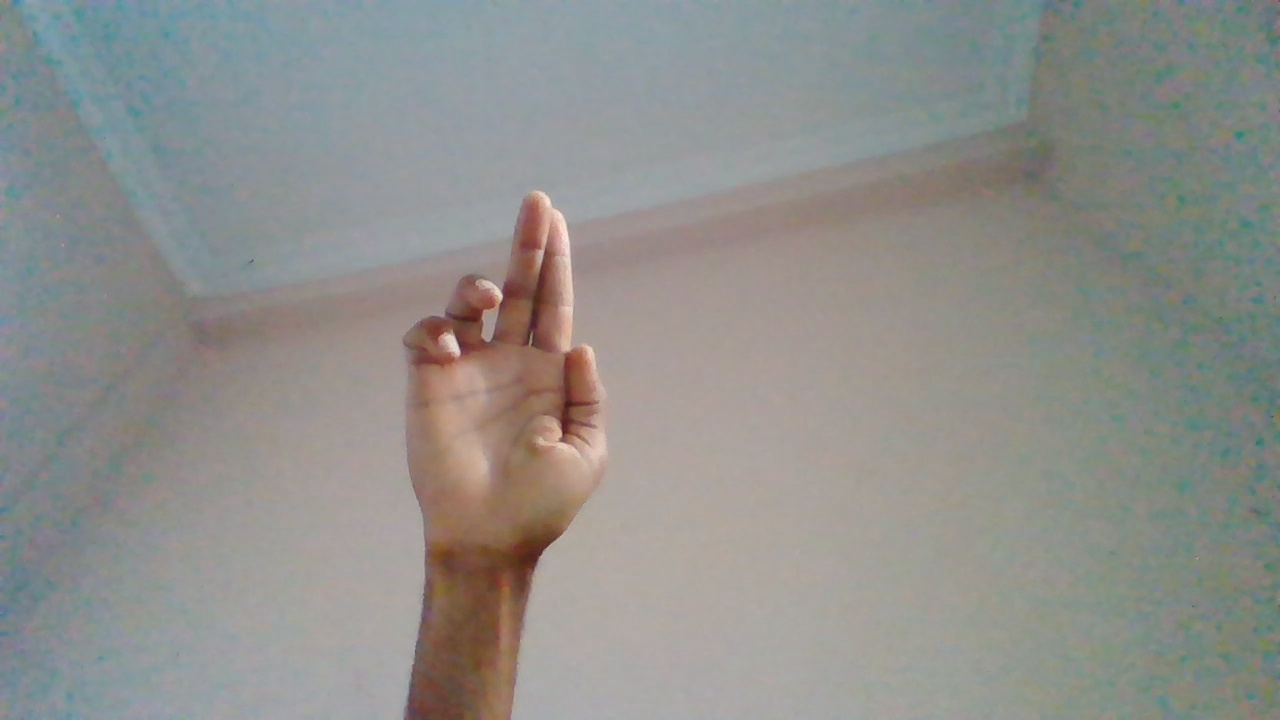gne: (401, 192, 612, 639)
